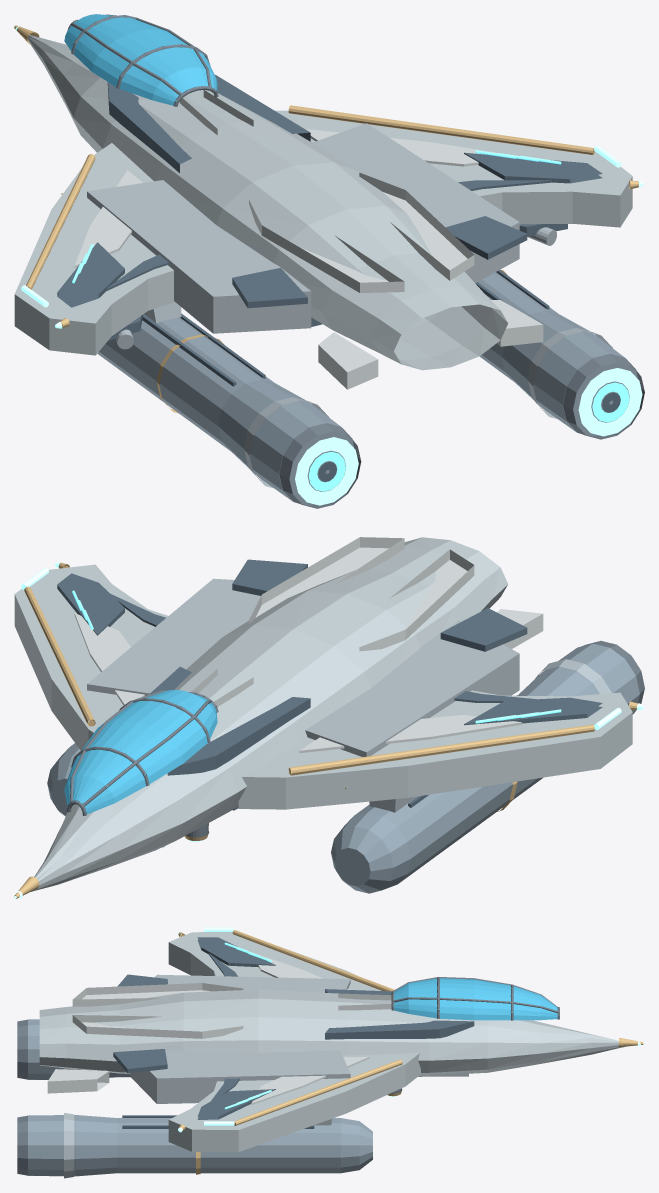
Rendered from exploration_ship_NX02.glb.
3 renders of one model, top to bottom at view 1: azimuth 30°, elevation 25°; view 2: azimuth 150°, elevation 25°; view 3: azimuth 270°, elevation 25°, orthographic. The views are drawn at different scales.
Visible parts, largest first — view 1: titanium_lite, steel_lite, engine_-1_engine_0, carbon_lite, lightarmor_lite, engine_1_engine_0, glass_lite, gold_lite, engine_1_glow_4, engine_-1_glow_4, darksteel_lite, engine_1_darksteel_1 (+5 smaller); view 2: titanium_lite, steel_lite, engine_-1_engine_0, carbon_lite, lightarmor_lite, glass_lite, gold_lite, darksteel_lite, engine_1_engine_0, engine_-1_steel_2, engine_-1_darksteel_1, glow_lite; view 3: titanium_lite, engine_1_engine_0, steel_lite, lightarmor_lite, carbon_lite, glass_lite, gold_lite, darksteel_lite, engine_-1_engine_0, engine_1_steel_2, engine_-1_darksteel_1, engine_1_darksteel_1.
Boxes of the visible parts, left/top/right/bottom form: titanium_lite: left=14, top=35, right=632, bottom=370; steel_lite: left=87, top=123, right=556, bottom=349; engine_-1_engine_0: left=97, top=314, right=354, bottom=505; carbon_lite: left=57, top=75, right=602, bottom=340; lightarmor_lite: left=74, top=90, right=543, bottom=389; engine_1_engine_0: left=478, top=272, right=637, bottom=436; glass_lite: left=64, top=14, right=217, bottom=105; gold_lite: left=14, top=25, right=638, bottom=327; engine_1_glow_4: left=578, top=368, right=642, bottom=436; engine_-1_glow_4: left=295, top=437, right=358, bottom=505; darksteel_lite: left=67, top=14, right=218, bottom=106; engine_1_darksteel_1: left=563, top=354, right=644, bottom=439; titanium_lite: left=14, top=537, right=632, bottom=891; steel_lite: left=87, top=578, right=519, bottom=847; engine_-1_engine_0: left=331, top=643, right=639, bottom=893; carbon_lite: left=57, top=559, right=602, bottom=810; lightarmor_lite: left=74, top=537, right=543, bottom=753; glass_lite: left=64, top=690, right=217, bottom=814; gold_lite: left=14, top=562, right=638, bottom=898; darksteel_lite: left=67, top=690, right=218, bottom=837; engine_1_engine_0: left=47, top=743, right=80, bottom=816; engine_-1_steel_2: left=534, top=659, right=611, bottom=693; engine_-1_darksteel_1: left=582, top=641, right=644, bottom=703; glow_lite: left=14, top=562, right=643, bottom=898; titanium_lite: left=39, top=932, right=624, bottom=1152; engine_1_engine_0: left=28, top=1115, right=372, bottom=1176; steel_lite: left=130, top=974, right=468, bottom=1103; lightarmor_lite: left=47, top=952, right=391, bottom=1104; carbon_lite: left=113, top=937, right=474, bottom=1119; glass_lite: left=393, top=978, right=558, bottom=1020; gold_lite: left=178, top=930, right=643, bottom=1130; darksteel_lite: left=390, top=977, right=559, bottom=1093; engine_-1_engine_0: left=28, top=1019, right=130, bottom=1079; engine_1_steel_2: left=64, top=1113, right=74, bottom=1178; engine_-1_darksteel_1: left=17, top=1019, right=27, bottom=1079; engine_1_darksteel_1: left=17, top=1115, right=27, bottom=1175.
Bounding box in the file's own units: 8.82 × 3.01 × 11.83.
